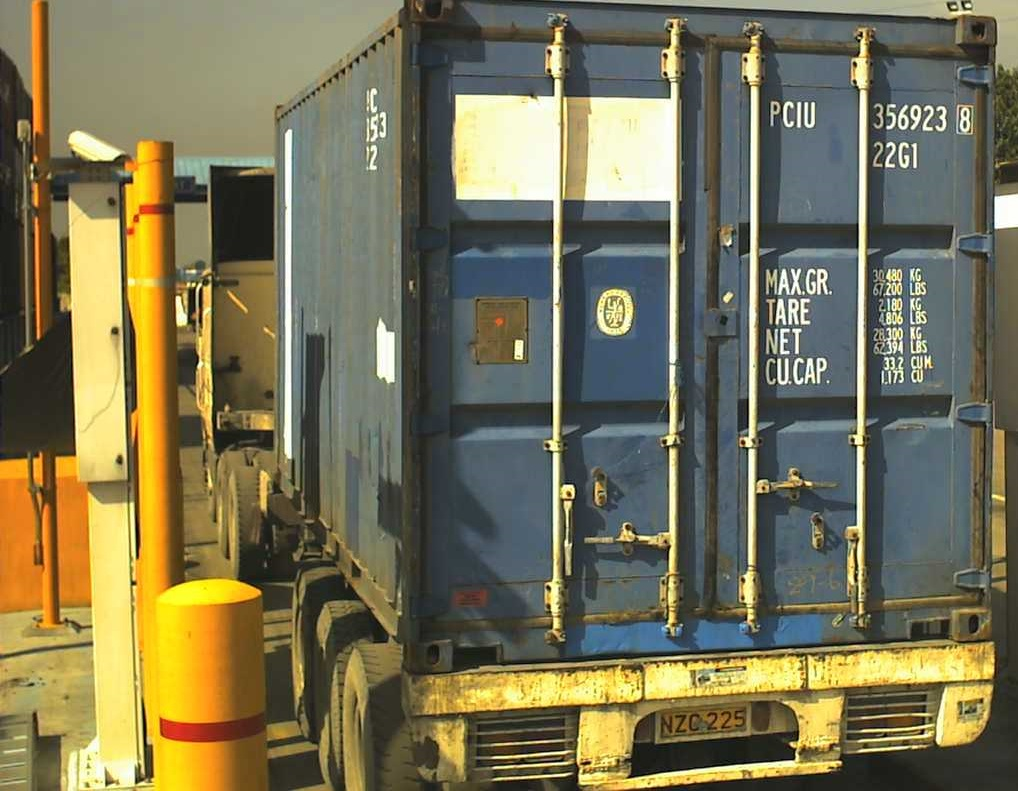container_door: (404, 11, 996, 679)
